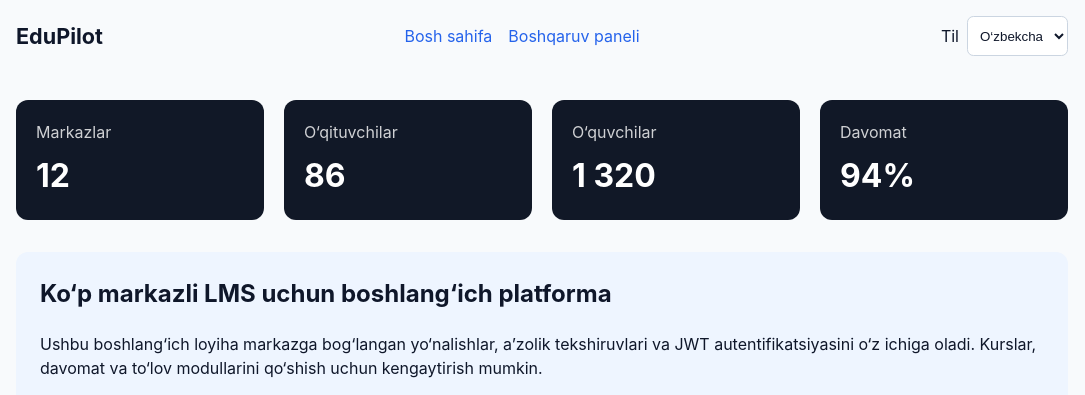
it: language switching › switches visible navigation and page text and remembers the choice
Expected: the heading "Ko‘p markazli LMS uchun boshlang‘ich platforma" is shown, top-left (40, 279), bottom-right (612, 308)
Select "Русский" in the dropdown labelled "Til" at (1018, 36), box top-left (967, 16), bottom-right (1068, 56)
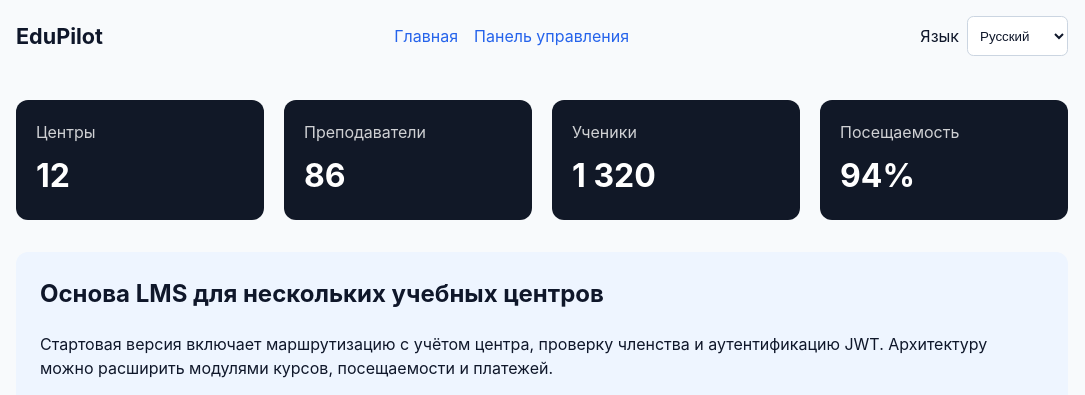
Expected: the heading "Основа LMS для нескольких учебных центров" is shown, top-left (40, 279), bottom-right (604, 308)
Expected: the link "Главная" is shown, top-left (394, 24), bottom-right (458, 48)
